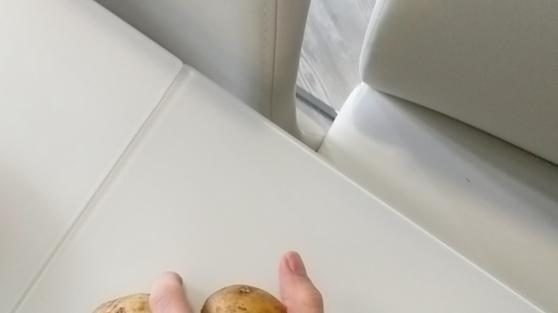potato: (197, 281, 289, 313)
